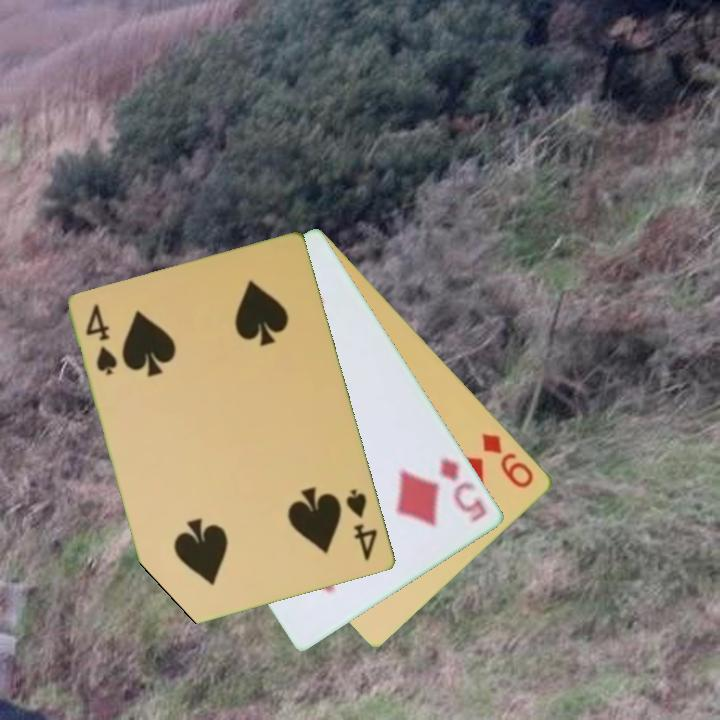4s: (82, 301, 121, 378), (343, 485, 381, 564)
5d: (436, 454, 490, 526)
9d: (479, 429, 538, 492)
